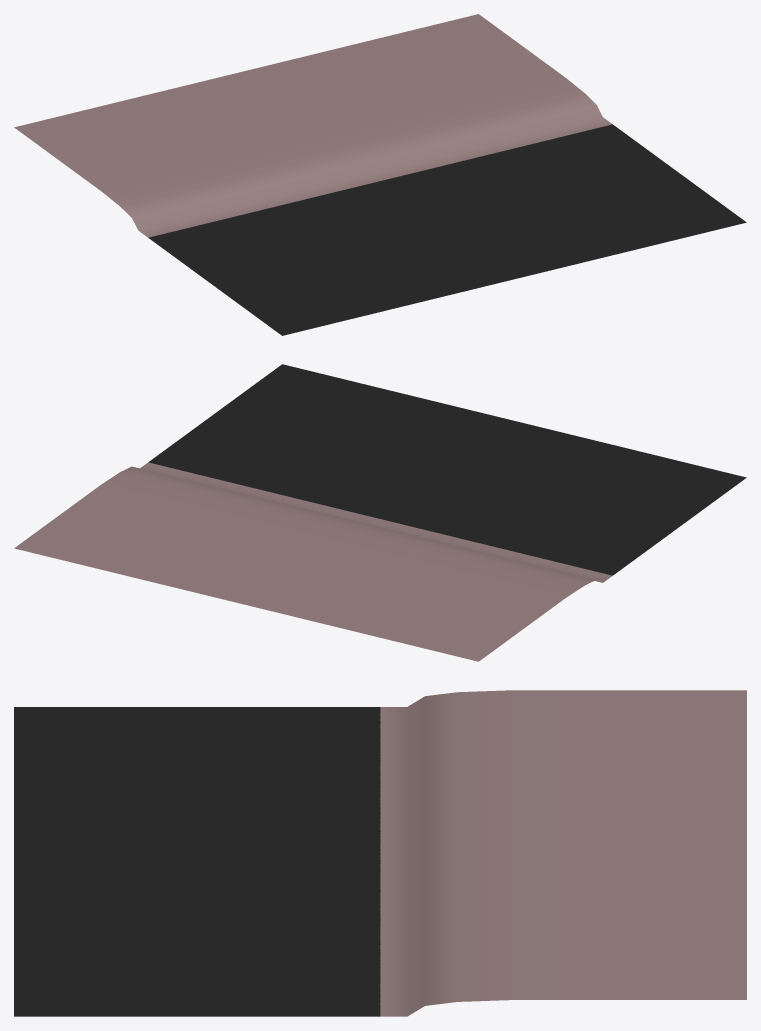
File: notrans side tile lod1.FBX
The picture shows the model from 3 angles, top to bottom: view 1: azimuth 30°, elevation 25°; view 2: azimuth 150°, elevation 25°; view 3: azimuth 270°, elevation 25°; orthographic projection. The views are drawn at different scales.
Visible parts, largest first — view 1: Object1212; view 2: Object1212; view 3: Object1212.
Boxes of the visible parts, x1,y1,x2,y2 form: Object1212: [14, 14, 746, 335]; Object1212: [14, 364, 746, 661]; Object1212: [14, 690, 746, 1016].
Size of the model in its own units: 3 by 0.075 by 3.
